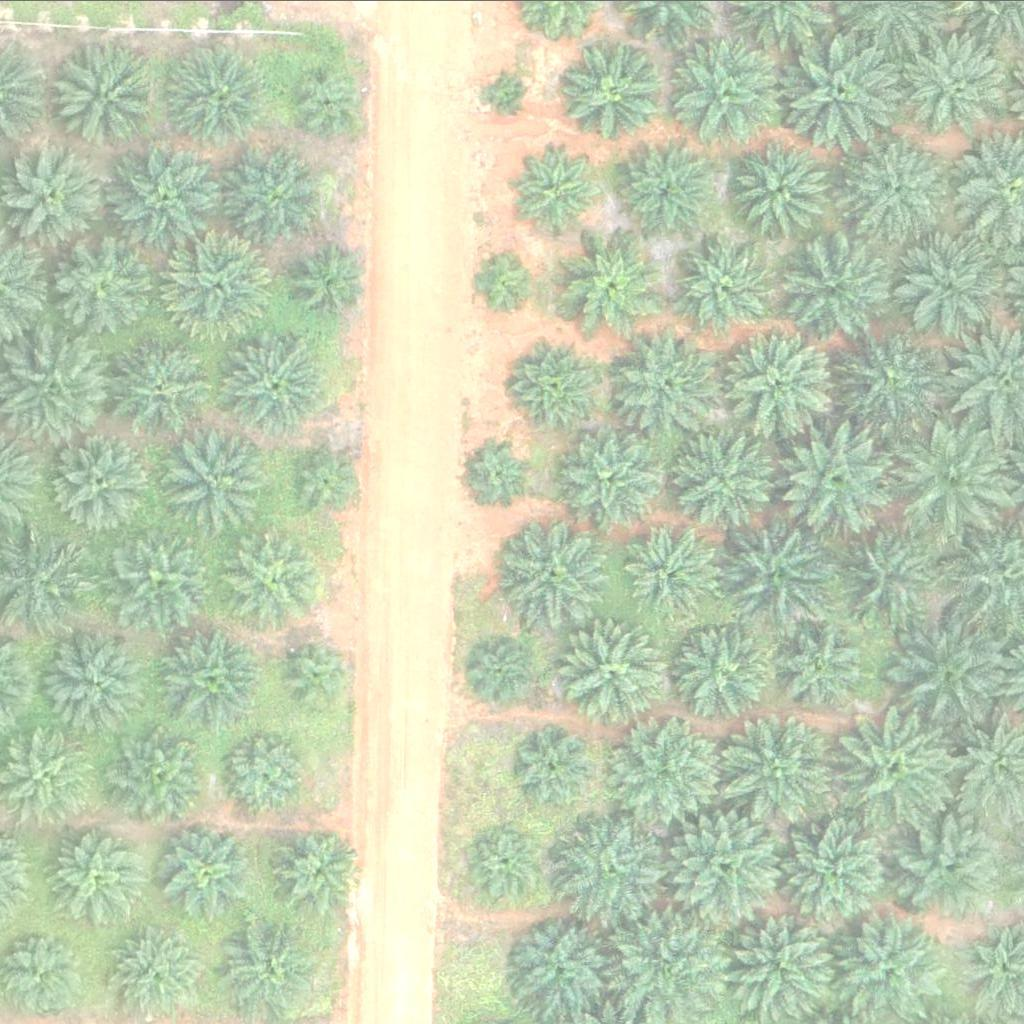Kelapa_Sawit: (775, 805, 901, 930), (717, 704, 843, 829), (832, 705, 958, 830), (888, 609, 1014, 734), (708, 513, 834, 638), (827, 514, 953, 639), (777, 413, 903, 538), (895, 415, 1021, 540), (781, 30, 907, 155), (720, 317, 845, 442), (728, 905, 842, 1018), (107, 139, 220, 252), (833, 907, 946, 1020), (899, 813, 1012, 926), (610, 713, 723, 826), (666, 811, 780, 923), (168, 227, 281, 339), (551, 816, 664, 928), (664, 34, 777, 146), (900, 31, 1013, 143), (225, 145, 326, 245), (116, 336, 217, 436), (223, 332, 324, 432), (52, 429, 153, 529), (161, 429, 262, 529), (110, 528, 211, 628), (222, 528, 323, 628), (42, 628, 143, 728), (164, 627, 265, 727), (108, 722, 209, 822), (49, 824, 150, 924), (560, 621, 661, 721), (675, 622, 776, 722), (501, 519, 602, 619), (622, 525, 723, 625), (558, 428, 659, 528), (670, 428, 771, 528), (615, 333, 716, 433), (842, 325, 943, 425), (562, 231, 663, 331), (677, 236, 778, 336), (791, 235, 892, 335), (895, 231, 996, 331), (614, 139, 715, 239), (730, 137, 831, 237), (846, 140, 947, 240), (53, 47, 153, 147), (167, 42, 267, 142), (6, 141, 106, 241), (56, 235, 156, 335), (266, 821, 366, 921), (216, 915, 316, 1015), (514, 920, 614, 1020), (771, 615, 871, 715), (559, 39, 659, 139), (222, 728, 310, 816), (514, 146, 602, 234), (162, 824, 250, 911), (105, 928, 193, 1015), (511, 335, 599, 422), (472, 824, 548, 899), (289, 61, 365, 136), (281, 635, 357, 710), (516, 727, 591, 802), (295, 243, 370, 318), (289, 439, 364, 514), (470, 638, 533, 701), (468, 439, 531, 501), (469, 253, 532, 315), (489, 71, 527, 108)
